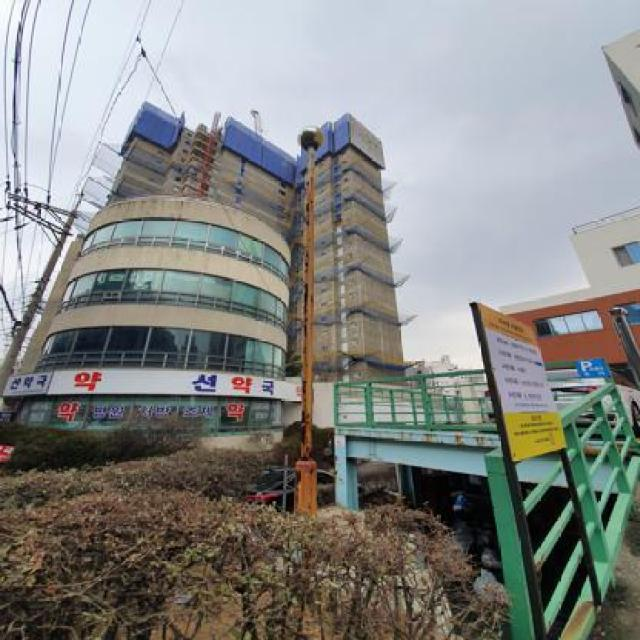pole: (290, 155, 329, 529)
